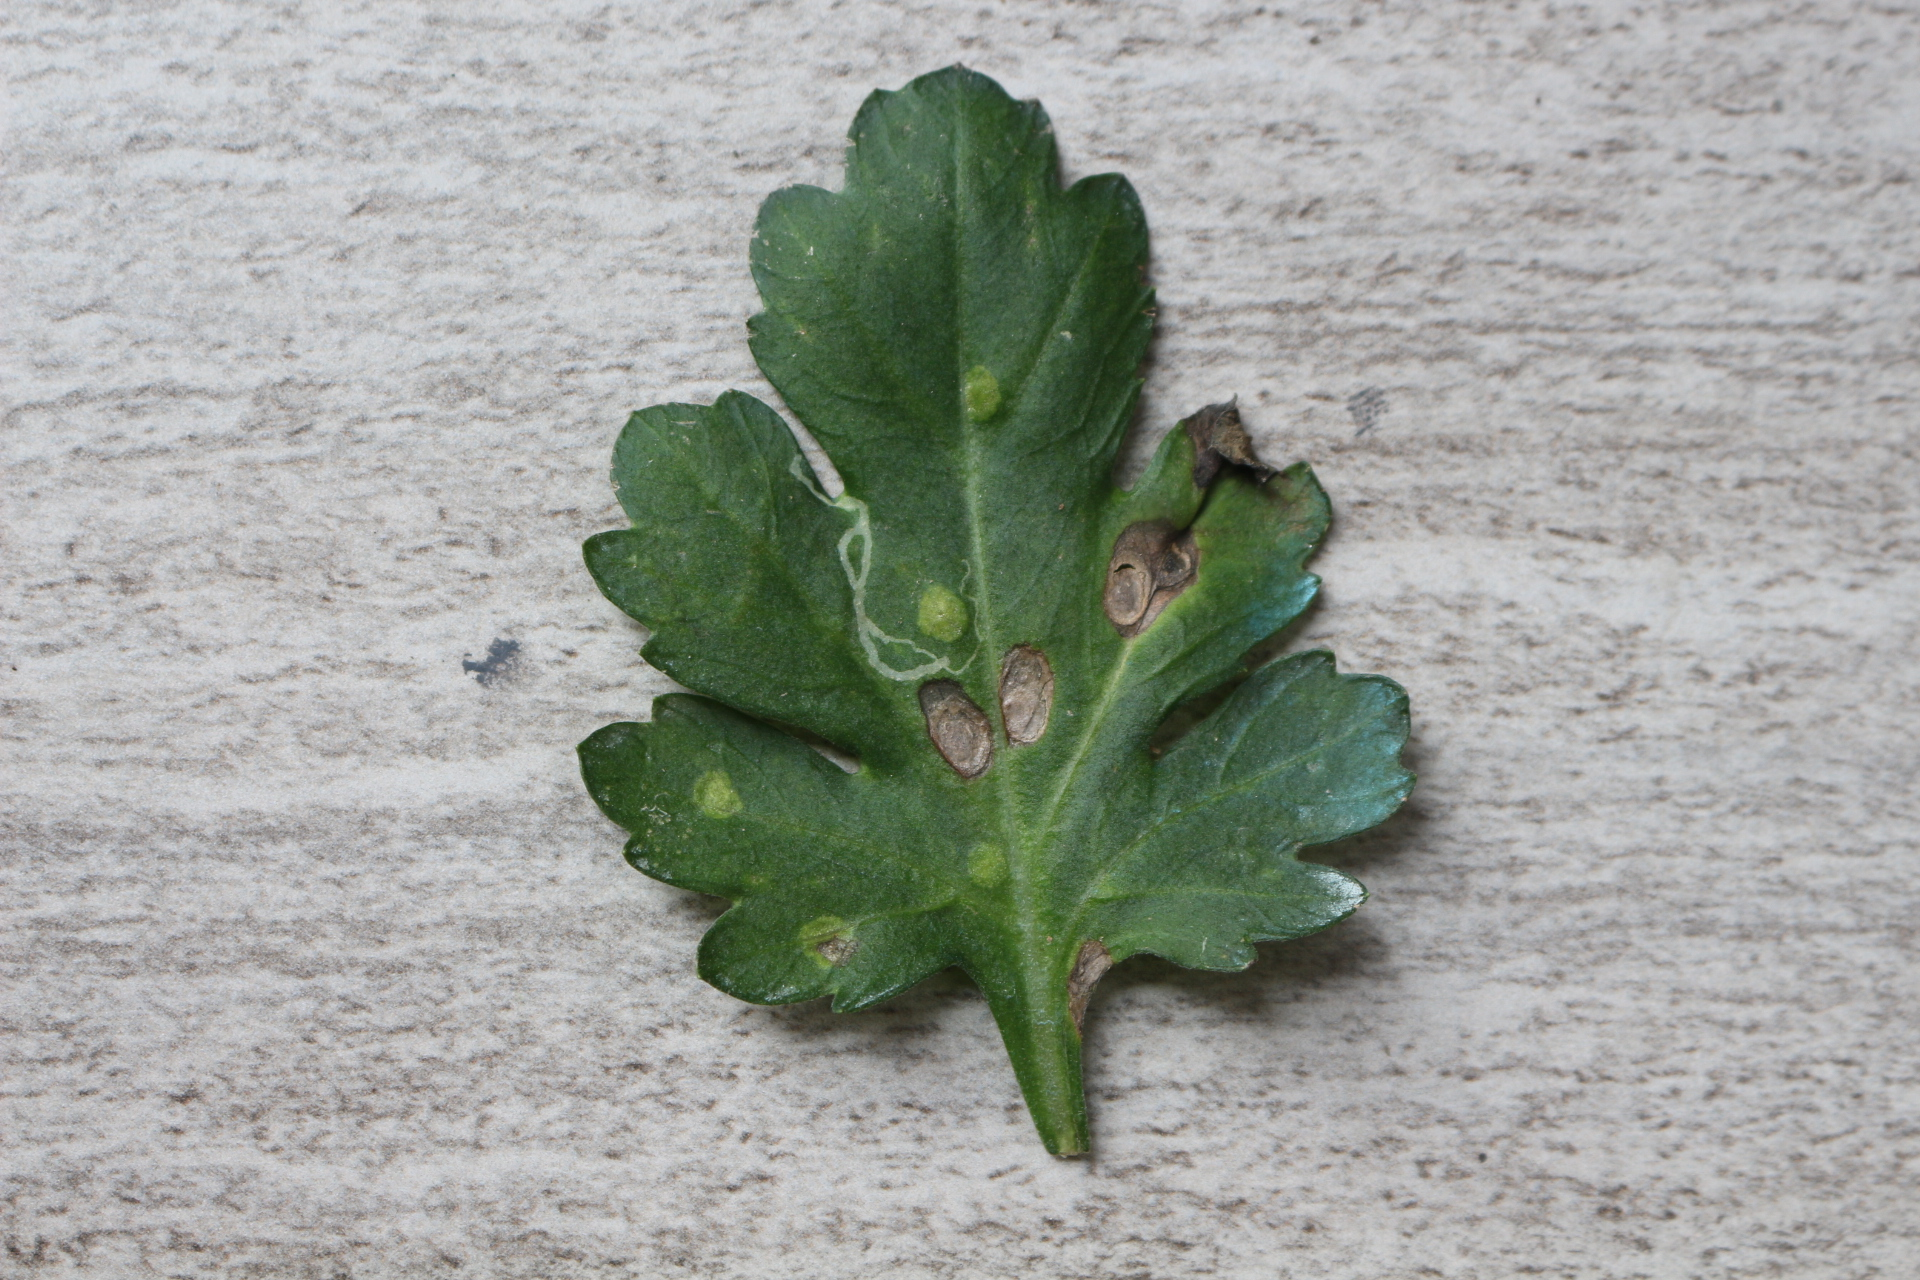namden: (916, 681, 999, 783), (994, 637, 1059, 746)
namsung: (911, 579, 973, 649), (687, 766, 754, 824), (950, 363, 1009, 429), (799, 913, 859, 964), (960, 841, 1017, 889)
